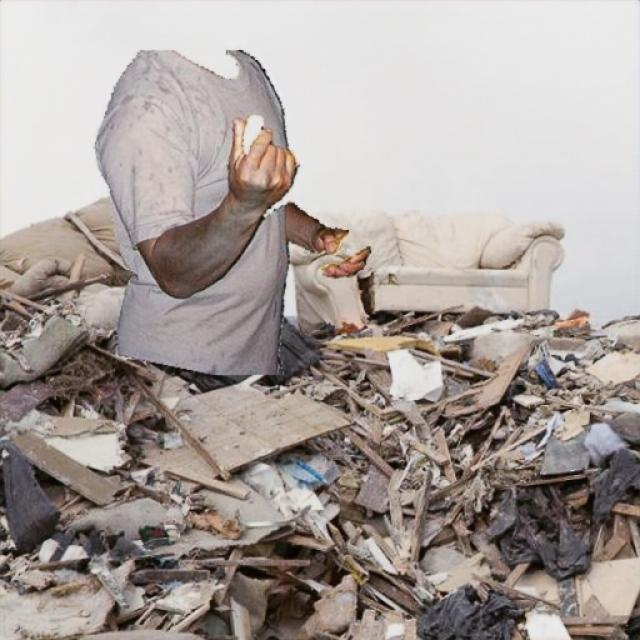Person in Rubble: (94, 50, 370, 374)
